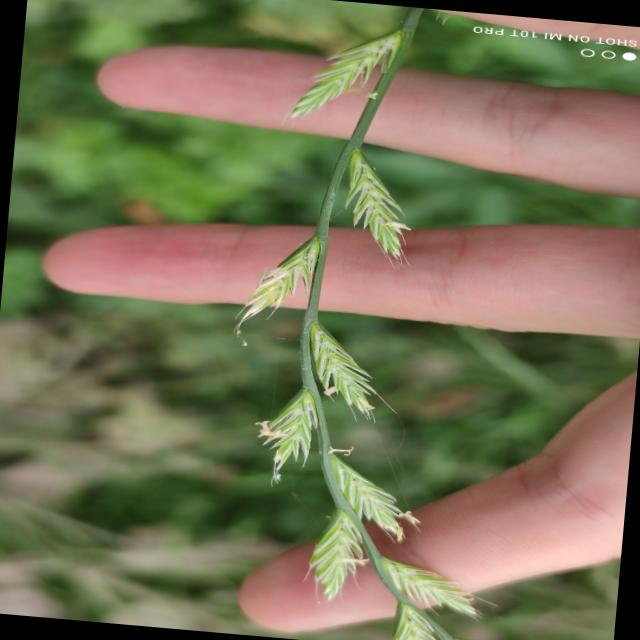Lolium: (202, 0, 622, 640)
